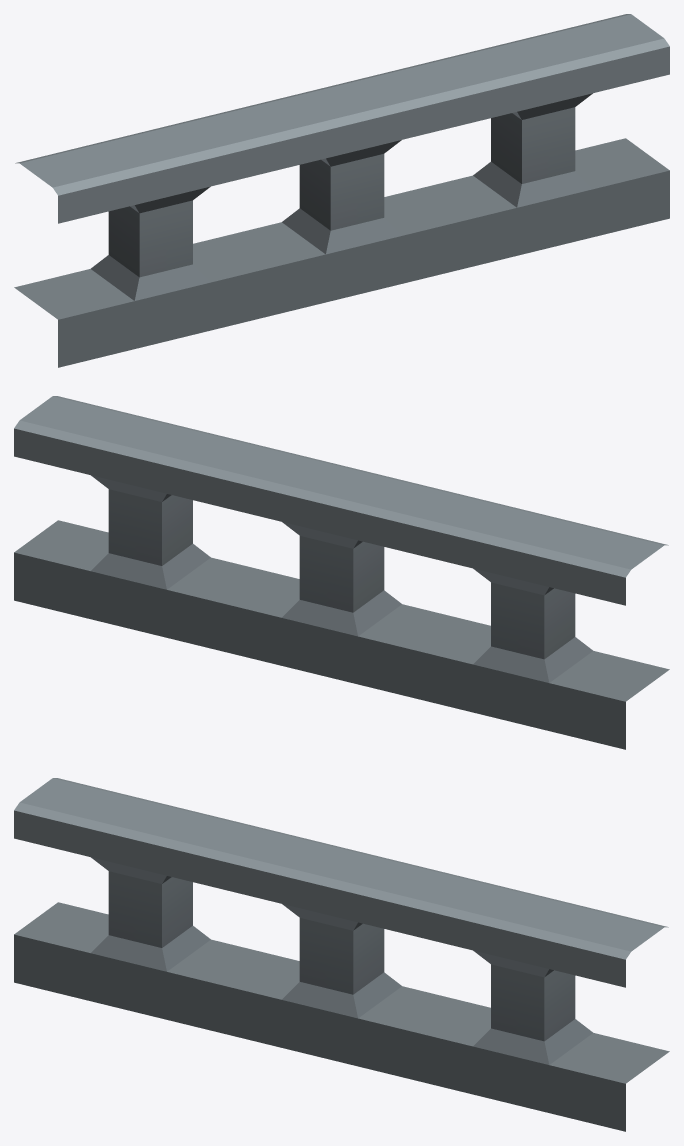
File: d_kaykit_barriere.glb
The picture shows the model from 3 angles, top to bottom: view 1: azimuth 30°, elevation 25°; view 2: azimuth 150°, elevation 25°; view 3: azimuth 330°, elevation 25°; orthographic projection.
Visible parts, largest first — view 1: d_kaykit_barriere; view 2: d_kaykit_barriere; view 3: d_kaykit_barriere.
Boxes of the visible parts, x1,y1,x2,y2 form: d_kaykit_barriere: [14, 14, 669, 367]; d_kaykit_barriere: [14, 396, 669, 749]; d_kaykit_barriere: [14, 778, 669, 1131].
Bounding box in the file's own units: 4 × 1.1 × 0.5.
Materials: 1 (1 with a texture image).
